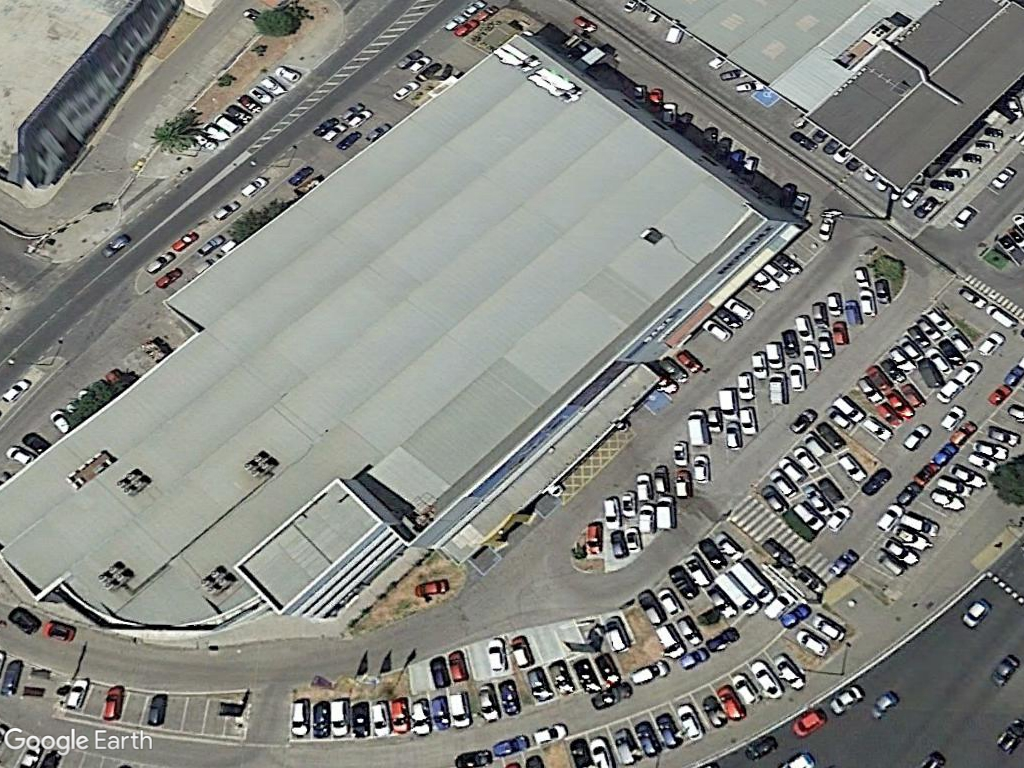car: (407, 578, 457, 602), (855, 286, 877, 326)
van: (683, 406, 709, 454)
